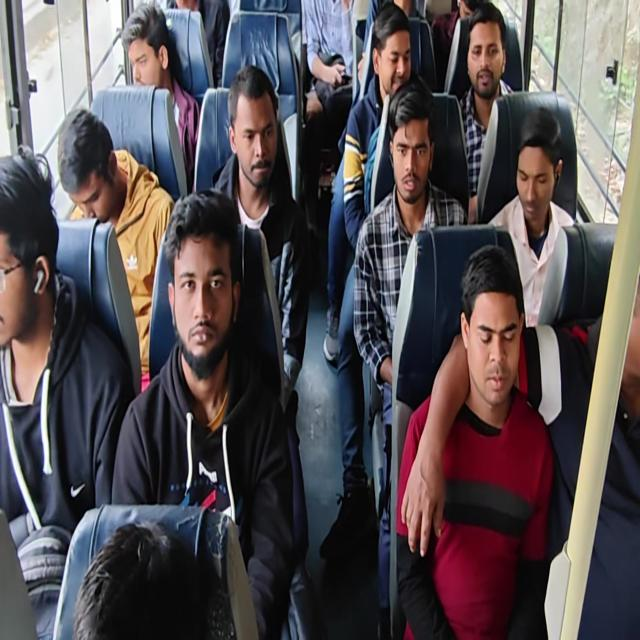person: (1, 1, 637, 638), (110, 188, 295, 638), (0, 148, 135, 638), (352, 77, 468, 636), (394, 244, 554, 638), (319, 3, 414, 558), (210, 63, 310, 409), (57, 108, 175, 391), (487, 107, 576, 328), (342, 3, 413, 249), (72, 520, 206, 638), (120, 2, 200, 190), (300, 0, 362, 228), (458, 1, 515, 222), (357, 0, 425, 99), (173, 0, 230, 88), (431, 0, 481, 93)
